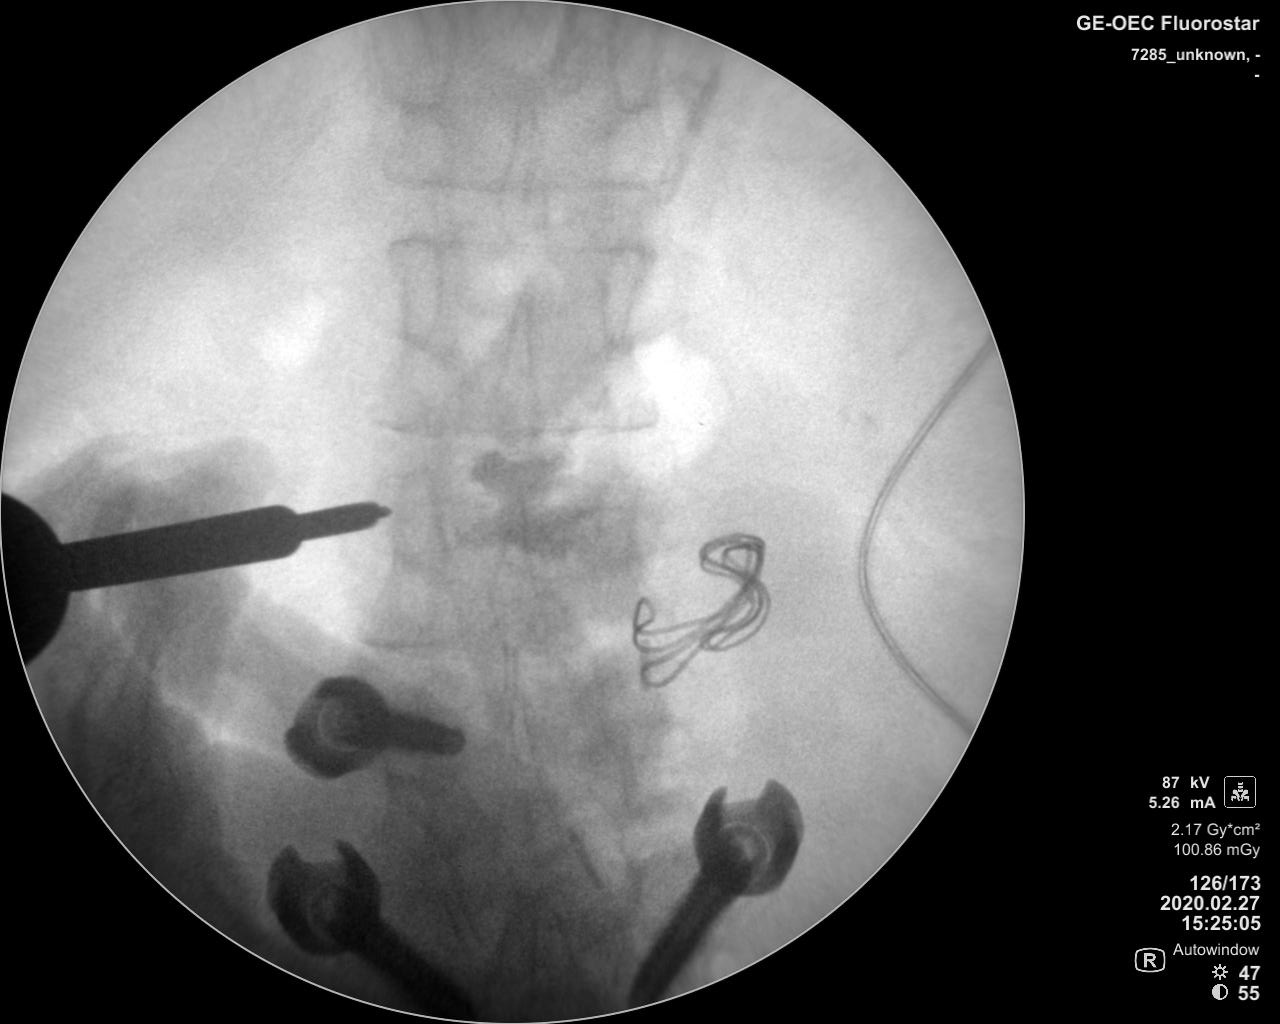eyes: (381, 13, 453, 116), (386, 232, 444, 345), (608, 16, 659, 119), (602, 241, 650, 350), (389, 465, 437, 558)
line: (379, 165, 657, 197), (369, 408, 659, 437), (385, 231, 659, 258)
nose: (489, 488, 545, 653), (491, 289, 546, 450), (501, 92, 552, 215)
